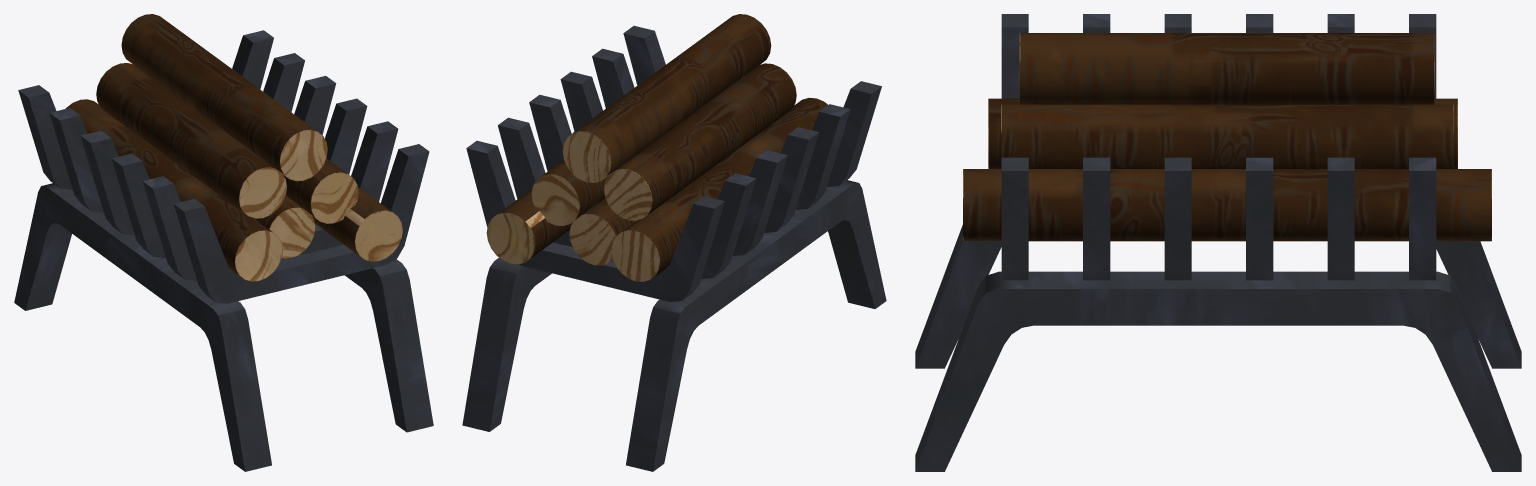
The model's file is House_Firewood_v01.fbx.
3 renders of one model, left to right at view 1: azimuth 30°, elevation 25°; view 2: azimuth 150°, elevation 25°; view 3: azimuth 270°, elevation 25°, orthographic. The views are drawn at different scales.
Visible parts, largest first — view 1: Holder, Firewoods, Base, FirewoodsRings; view 2: Holder, Firewoods, Base, FirewoodsRings; view 3: Firewoods, Base, Holder.
Part boxes in pixels (bbox=[...]): Holder: bbox=[18, 30, 429, 303]; Firewoods: bbox=[65, 14, 392, 276]; Base: bbox=[14, 183, 433, 471]; FirewoodsRings: bbox=[129, 61, 402, 281]; Holder: bbox=[466, 25, 881, 301]; Firewoods: bbox=[497, 14, 827, 278]; Base: bbox=[462, 180, 886, 471]; FirewoodsRings: bbox=[486, 62, 762, 282]; Firewoods: bbox=[963, 33, 1491, 241]; Base: bbox=[915, 225, 1521, 471]; Holder: bbox=[1001, 14, 1436, 280].
Bounding box in the file's own units: 61.31 × 99.95 × 68.82.
Materials: 3 (3 with a texture image).
